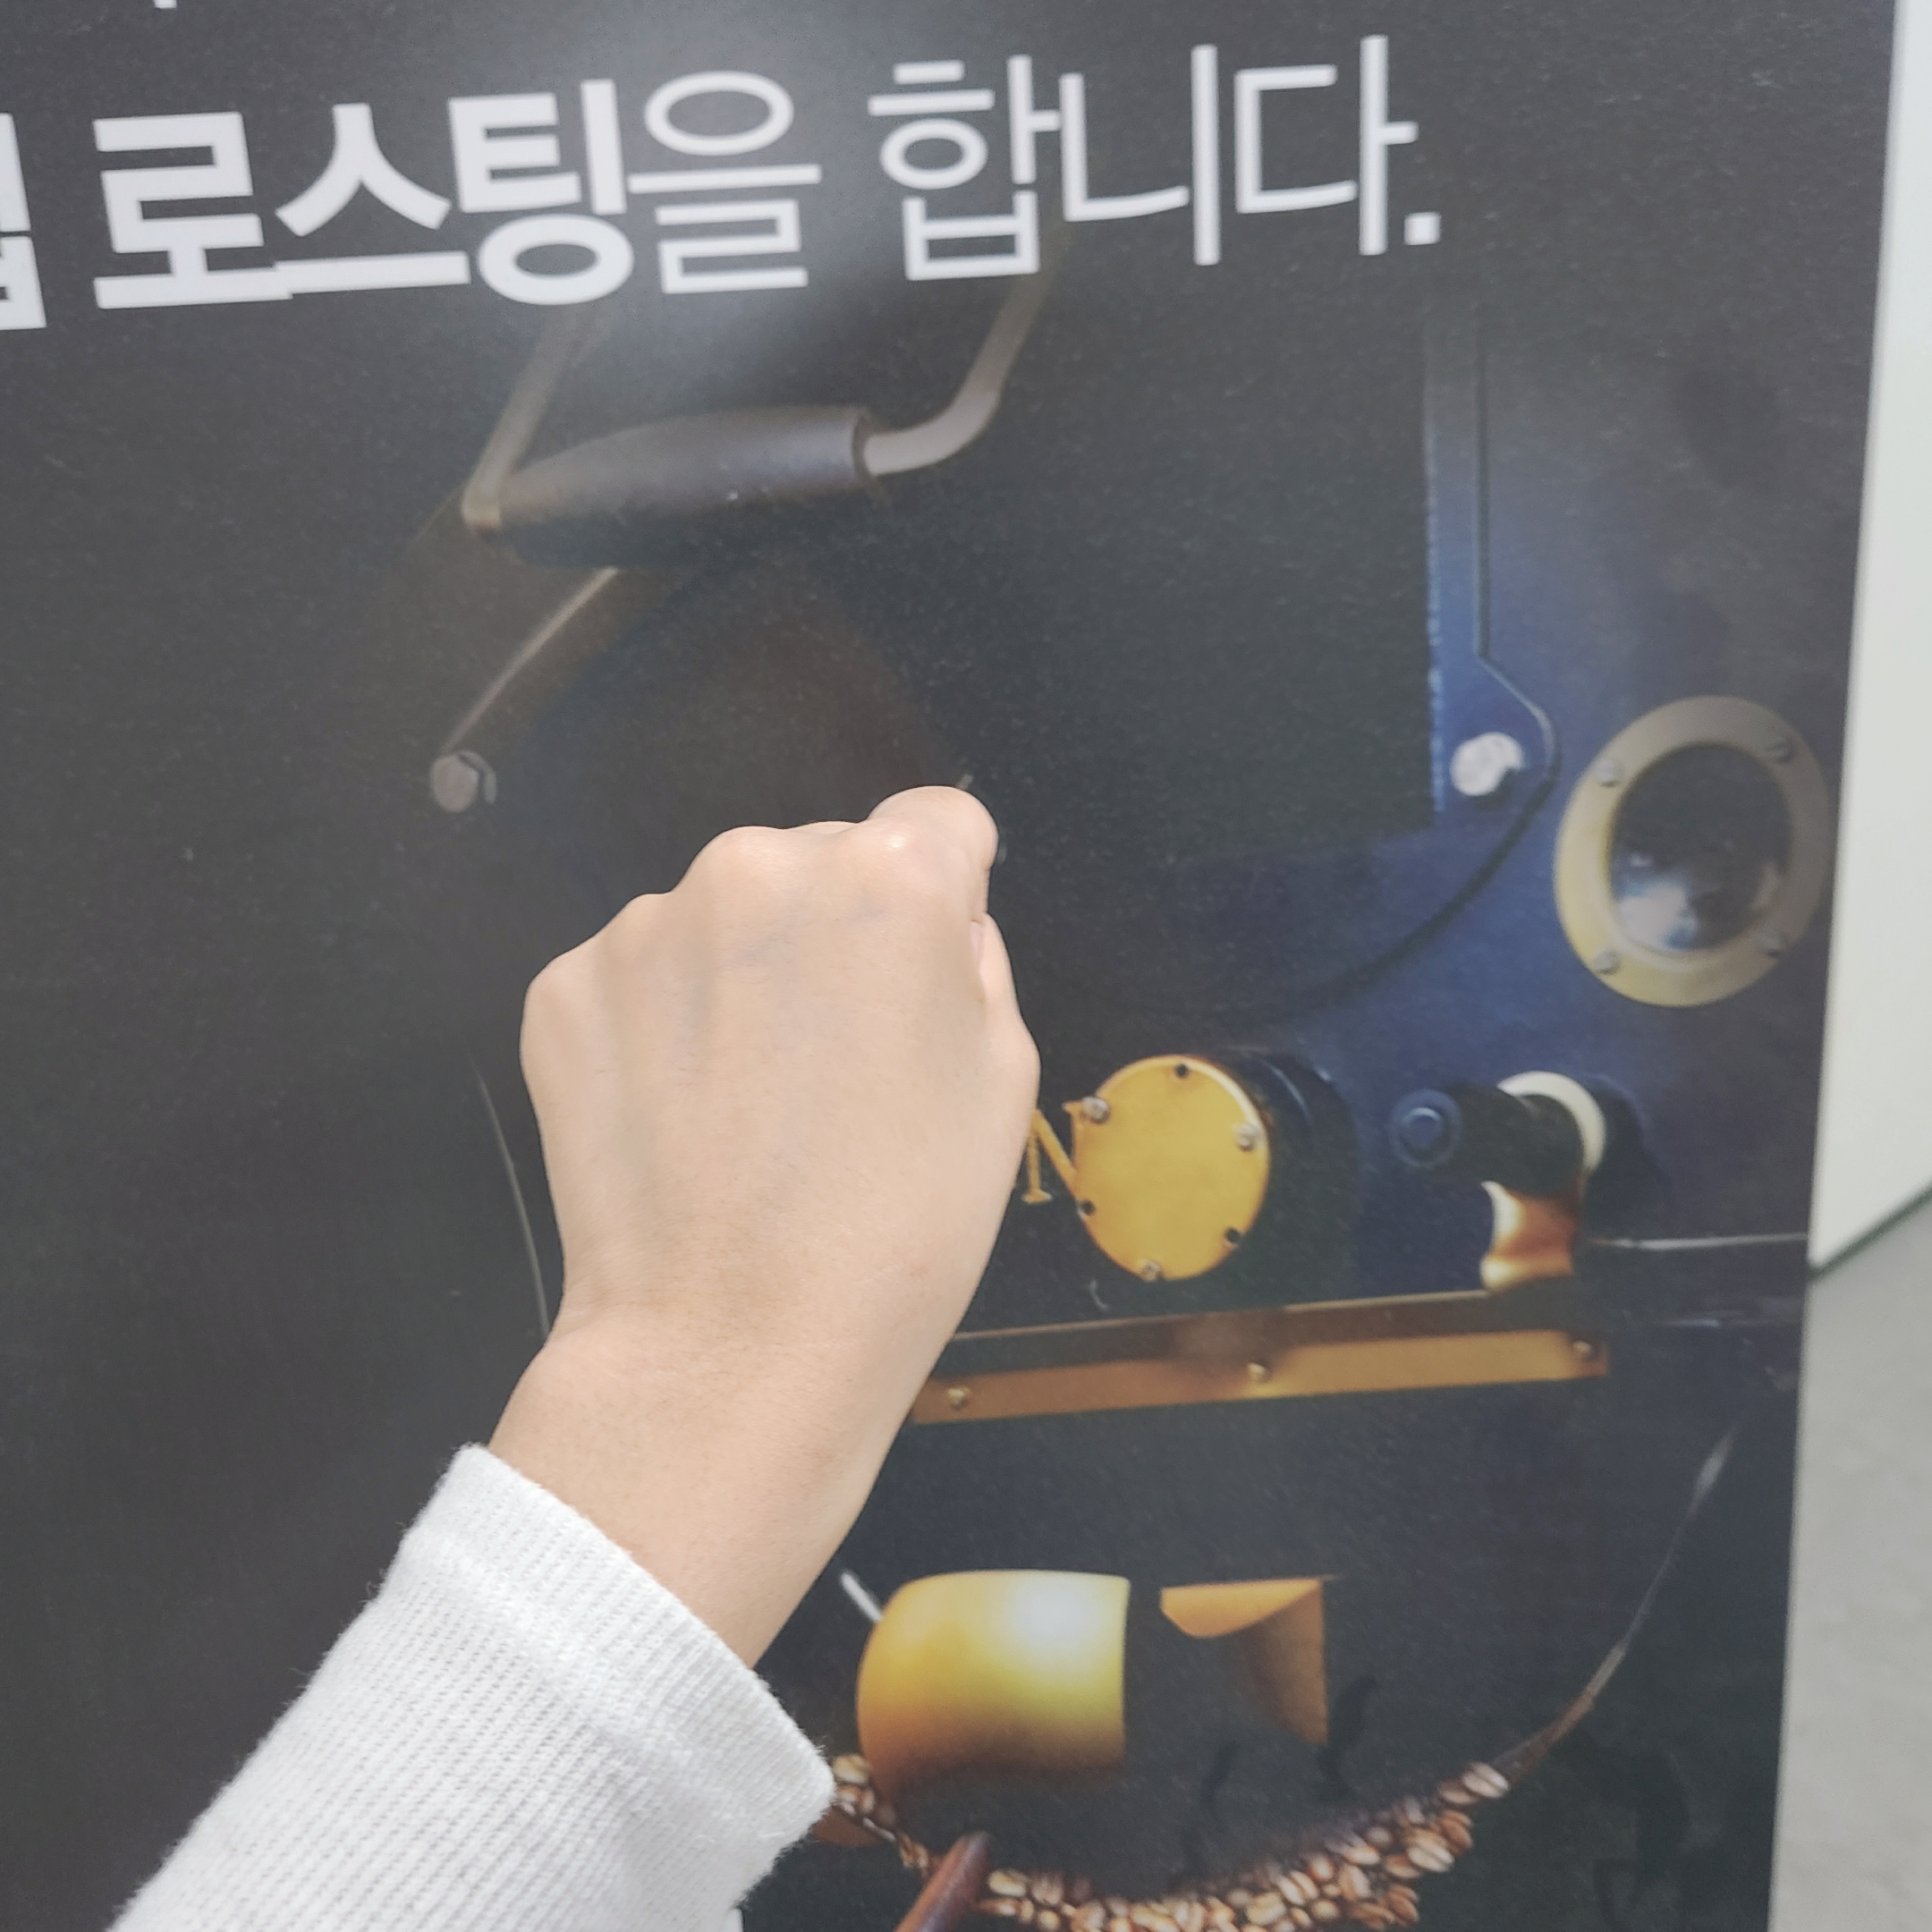smile: (497, 775, 1065, 1380)
